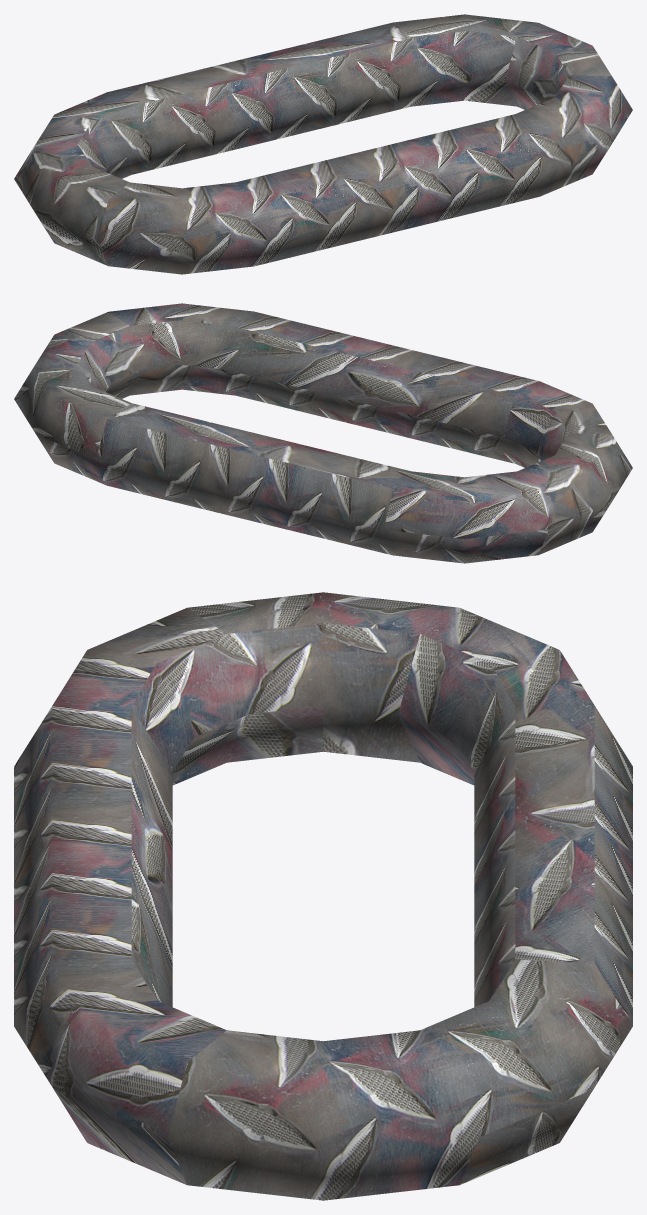
File: Chain_link.fbx
3 views of the same model, one above another, from view 1: azimuth 30°, elevation 25°; view 2: azimuth 150°, elevation 25°; view 3: azimuth 270°, elevation 25° (orthographic). The views are drawn at different scales.
Visible parts, largest first — view 1: Chain link; view 2: Chain link; view 3: Chain link.
Boxes of the visible parts, bbox=[...] form: Chain link: bbox=[14, 14, 632, 274]; Chain link: bbox=[14, 303, 632, 563]; Chain link: bbox=[14, 592, 632, 1200].
Bounding box in the file's own units: 18.63 × 2.16 × 9.42.
